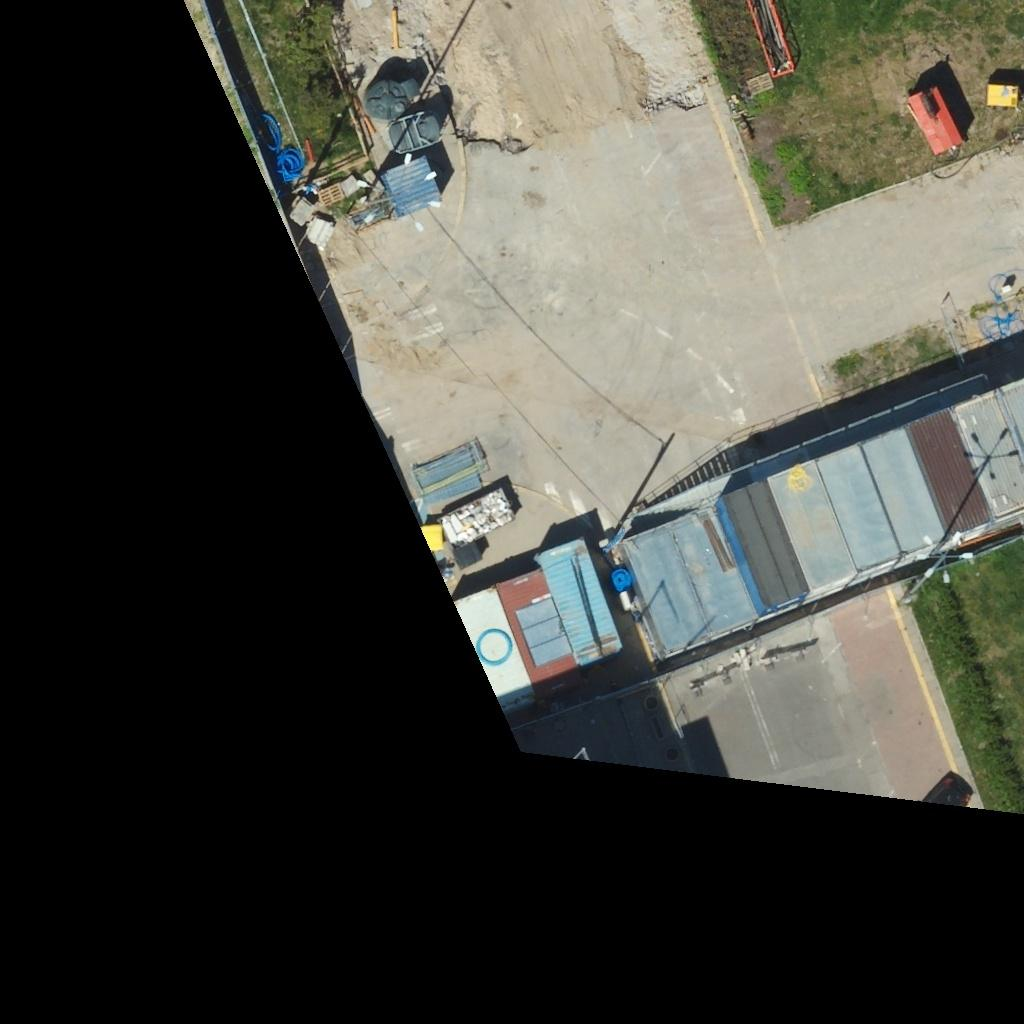kontener: (666, 501, 781, 648), (850, 416, 955, 571), (612, 522, 721, 665), (806, 436, 906, 585), (759, 454, 859, 600), (900, 408, 999, 545), (717, 483, 809, 613), (947, 391, 1024, 531), (537, 540, 620, 665), (494, 569, 585, 681), (456, 589, 533, 709), (384, 157, 439, 215)
